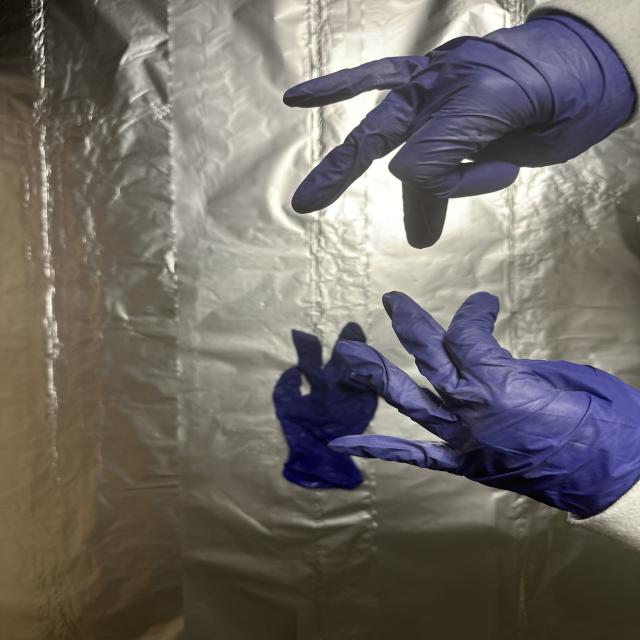gloves_contaminated: (284, 10, 635, 248), (329, 292, 640, 518)
